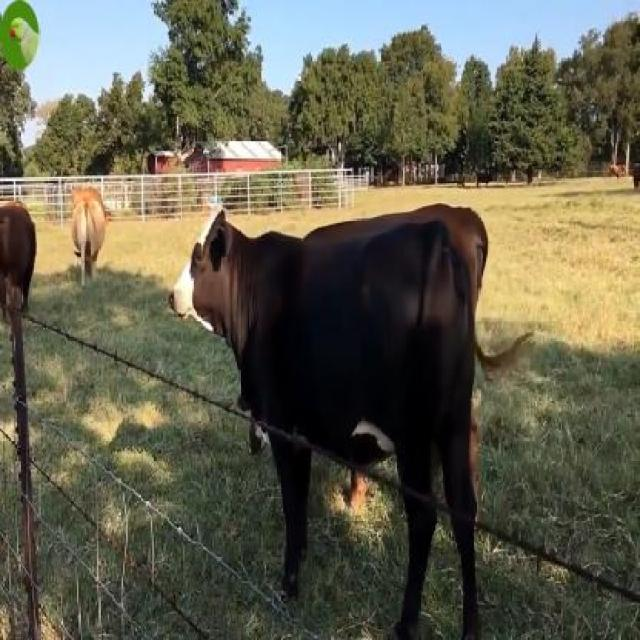Cow: (169, 203, 489, 639)
